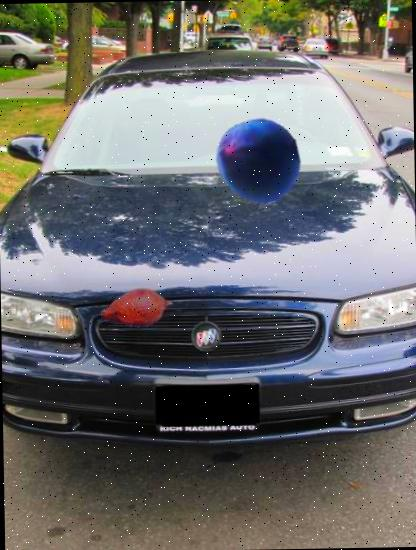Plum: (214, 117, 303, 206)
Salak: (99, 270, 175, 346)
